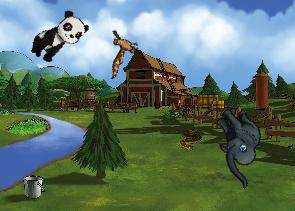eagle: (98, 24, 145, 79)
elephant: (194, 100, 283, 189)
panda: (25, 6, 91, 69)
